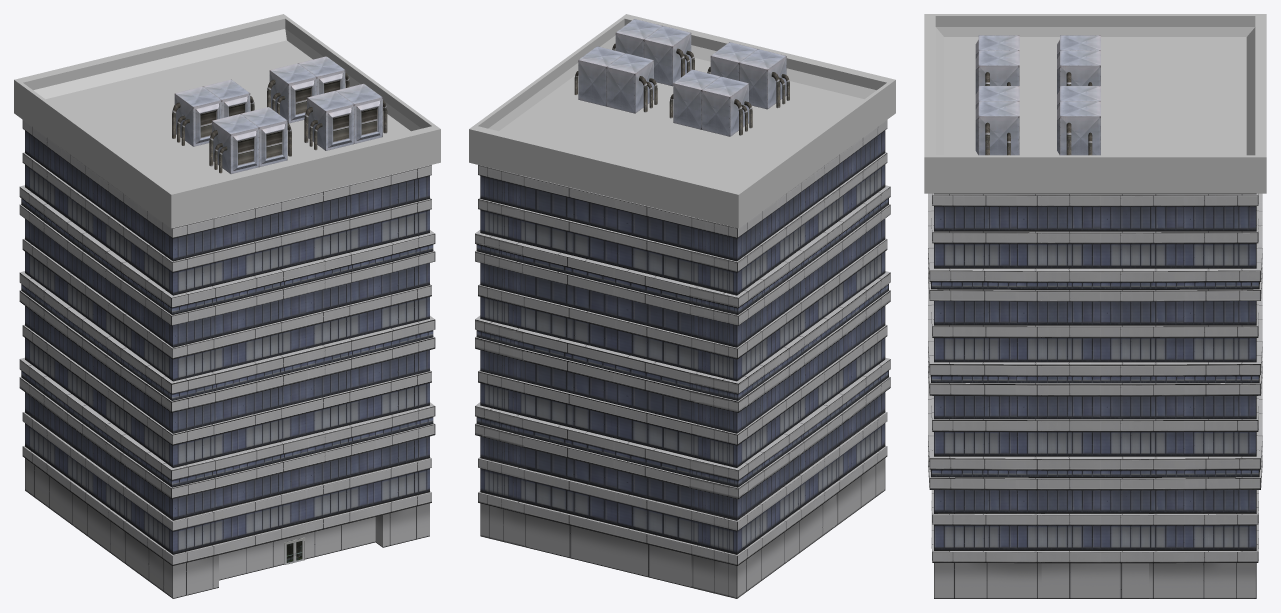
The model's file is Building_01.FBX.
3 views of the same model, side by side, from view 1: azimuth 30°, elevation 25°; view 2: azimuth 150°, elevation 25°; view 3: azimuth 270°, elevation 25° (orthographic). The views are drawn at different scales.
Parts seen in each view (by area): view 1: Box107; view 2: Box107; view 3: Box107.
Boxes of the visible parts, left/top/right/bottom form: Box107: left=14, top=14, right=440, bottom=598; Box107: left=469, top=14, right=895, bottom=598; Box107: left=924, top=14, right=1266, bottom=598.
Size of the model in its own units: 42 by 64.13 by 42.43.
